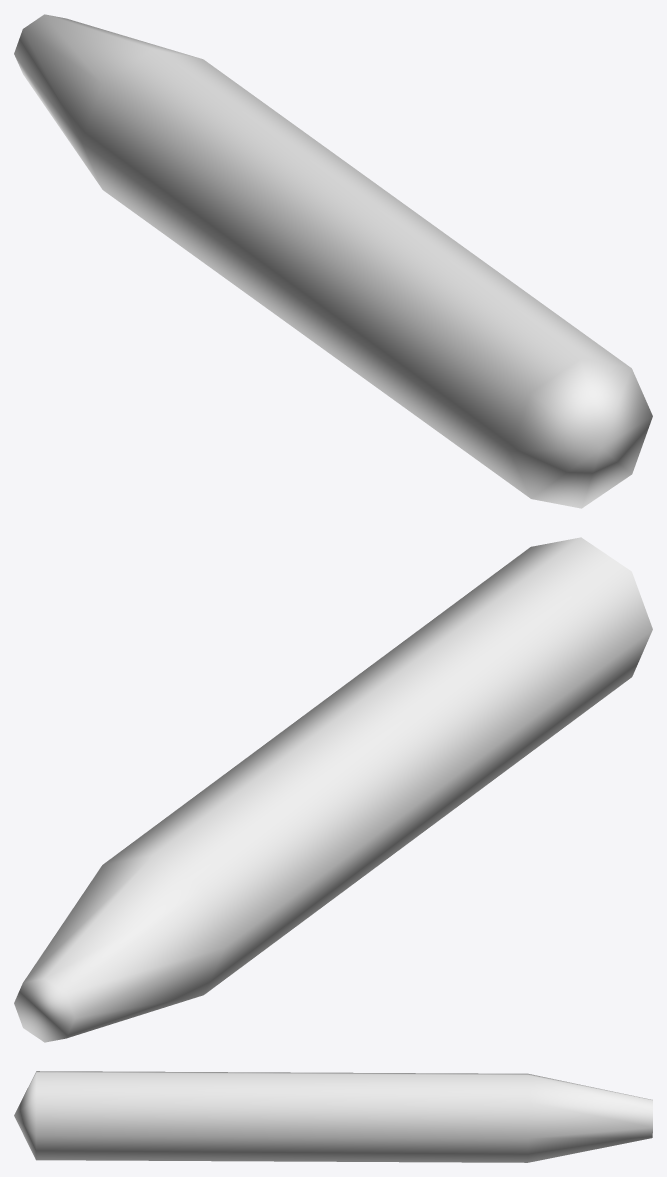
The model's file is Chock_Collider.fbx.
3 renders of one model, top to bottom at view 1: azimuth 30°, elevation 25°; view 2: azimuth 150°, elevation 25°; view 3: azimuth 270°, elevation 25°, orthographic. The views are drawn at different scales.
Visible parts, largest first — view 1: Chock_Collider; view 2: Chock_Collider; view 3: Chock_Collider.
Boxes of the visible parts, box(x1,y1,x2,y2) form: Chock_Collider: box(14, 14, 652, 508); Chock_Collider: box(14, 537, 652, 1042); Chock_Collider: box(14, 1071, 652, 1162).
Size of the model in its own units: 2.34 by 2.41 by 15.78.
